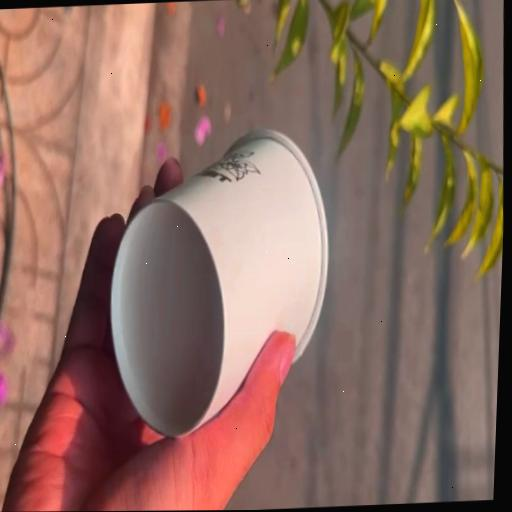Ly_giay: (109, 132, 326, 436)
